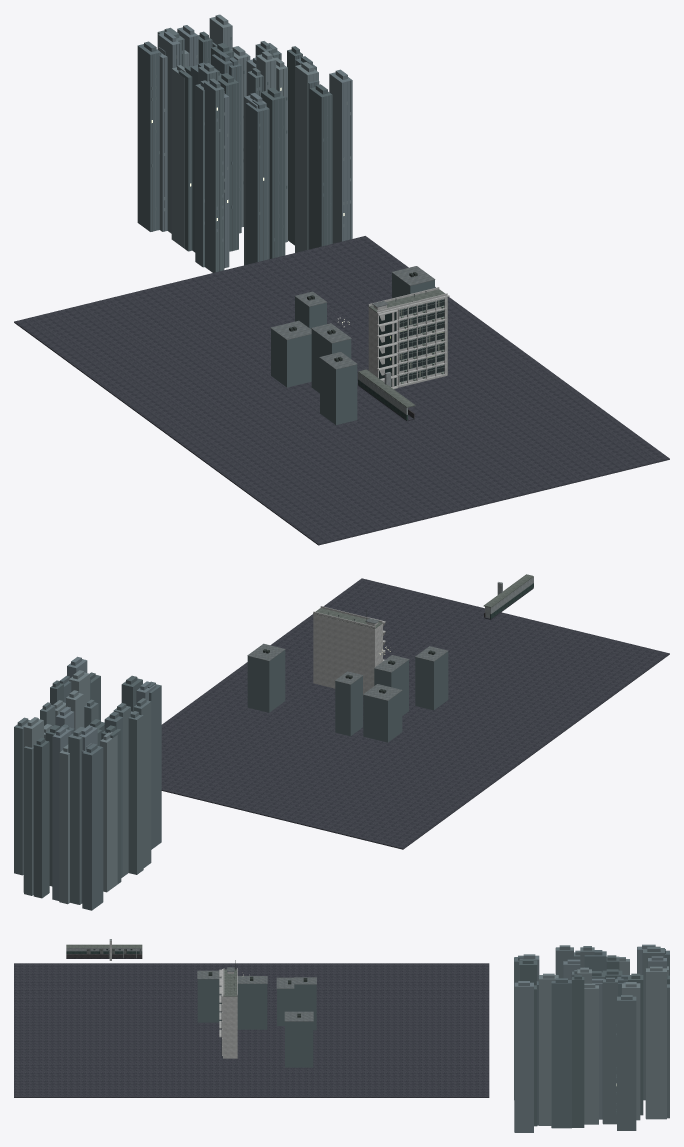
The model's file is rain-gallery.glb.
3 renders of one model, top to bottom at view 1: azimuth 30°, elevation 25°; view 2: azimuth 150°, elevation 25°; view 3: azimuth 270°, elevation 25°, orthographic. The views are drawn at different scales.
Visible parts, largest first — view 1: 05 · Distant city / Floor · uneven wet concrete, 05 · Distant city / Skyline · layer 1, 05 · Distant city / Skyline · layer 3, 05 · Distant city / Skyline · layer 2, 05 · Distant city / Skyline · layer 4, 05 · Distant city / Skyline · layer 0, 04 · Opposite apartment block / Facade · chalky concrete, 05 · Distant city / Pipe · galvanized grey, 04 · Opposite apartment block / Glass · dusty blue, 04 · Opposite apartment block / Aluminium · window frame, 04 · Opposite apartment block / Window · dim interior; view 2: 05 · Distant city / Floor · uneven wet concrete, 05 · Distant city / Skyline · layer 1, 05 · Distant city / Skyline · layer 0, 05 · Distant city / Skyline · layer 3, 05 · Distant city / Skyline · layer 4, 04 · Opposite apartment block / Facade · chalky concrete, 05 · Distant city / Skyline · layer 2, 05 · Distant city / Pipe · galvanized grey; view 3: 05 · Distant city / Floor · uneven wet concrete, 05 · Distant city / Skyline · layer 1, 05 · Distant city / Skyline · layer 4, 05 · Distant city / Skyline · layer 0, 05 · Distant city / Skyline · layer 2, 05 · Distant city / Skyline · layer 3, 04 · Opposite apartment block / Facade · chalky concrete, 05 · Distant city / Pipe · galvanized grey, 01 · Architecture / Parapet · saturated concrete, 04 · Opposite apartment block / Ceiling · peeling mineral pa.
Boxes of the visible parts, x1,y1,x2,y2 form: 05 · Distant city / Floor · uneven wet concrete: (14, 236, 669, 545); 05 · Distant city / Skyline · layer 1: (178, 31, 434, 424); 05 · Distant city / Skyline · layer 3: (137, 36, 350, 268); 05 · Distant city / Skyline · layer 2: (157, 25, 352, 267); 05 · Distant city / Skyline · layer 4: (152, 14, 351, 261); 05 · Distant city / Skyline · layer 0: (151, 26, 316, 272); 04 · Opposite apartment block / Facade · chalky concrete: (368, 287, 449, 388); 05 · Distant city / Pipe · galvanized grey: (270, 266, 435, 369); 04 · Opposite apartment block / Glass · dusty blue: (399, 300, 444, 381); 04 · Opposite apartment block / Aluminium · window frame: (399, 299, 444, 383); 04 · Opposite apartment block / Window · dim interior: (379, 299, 443, 386); 05 · Distant city / Floor · uneven wet concrete: (161, 578, 669, 849); 05 · Distant city / Skyline · layer 1: (33, 650, 448, 898); 05 · Distant city / Skyline · layer 0: (14, 698, 151, 904); 05 · Distant city / Skyline · layer 3: (60, 675, 161, 910); 05 · Distant city / Skyline · layer 4: (23, 670, 117, 904); 04 · Opposite apartment block / Facade · chalky concrete: (313, 606, 385, 695); 05 · Distant city / Skyline · layer 2: (52, 656, 156, 903); 05 · Distant city / Pipe · galvanized grey: (247, 643, 448, 700); 05 · Distant city / Floor · uneven wet concrete: (14, 963, 489, 1097); 05 · Distant city / Skyline · layer 1: (197, 948, 669, 1127); 05 · Distant city / Skyline · layer 4: (514, 957, 668, 1127); 05 · Distant city / Skyline · layer 0: (538, 945, 669, 1130); 05 · Distant city / Skyline · layer 2: (514, 944, 666, 1132); 05 · Distant city / Skyline · layer 3: (514, 947, 669, 1131); 04 · Opposite apartment block / Facade · chalky concrete: (219, 968, 237, 1058); 05 · Distant city / Pipe · galvanized grey: (197, 970, 316, 1021); 01 · Architecture / Parapet · saturated concrete: (66, 954, 142, 958); 04 · Opposite apartment block / Ceiling · peeling mineral pa: (223, 969, 237, 996).
Size of the model in its own units: 101 by 52.55 by 207.
31 materials, 11 textured.
